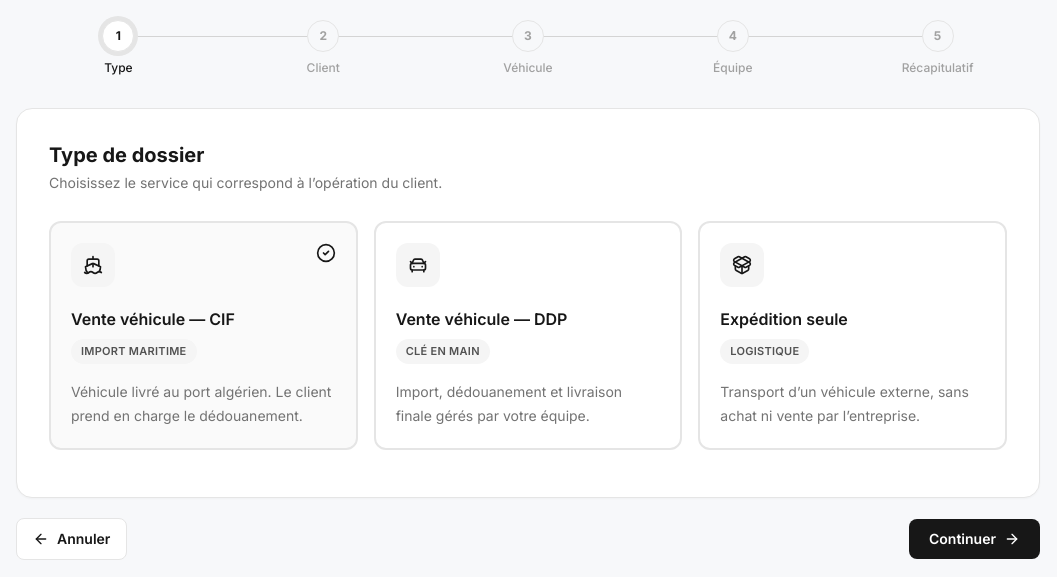
Test: Dossier unified catalogue selection › renders a real empty result explicitly
Click the button "Continuer": (974, 539) 909,519 -> 1040,559
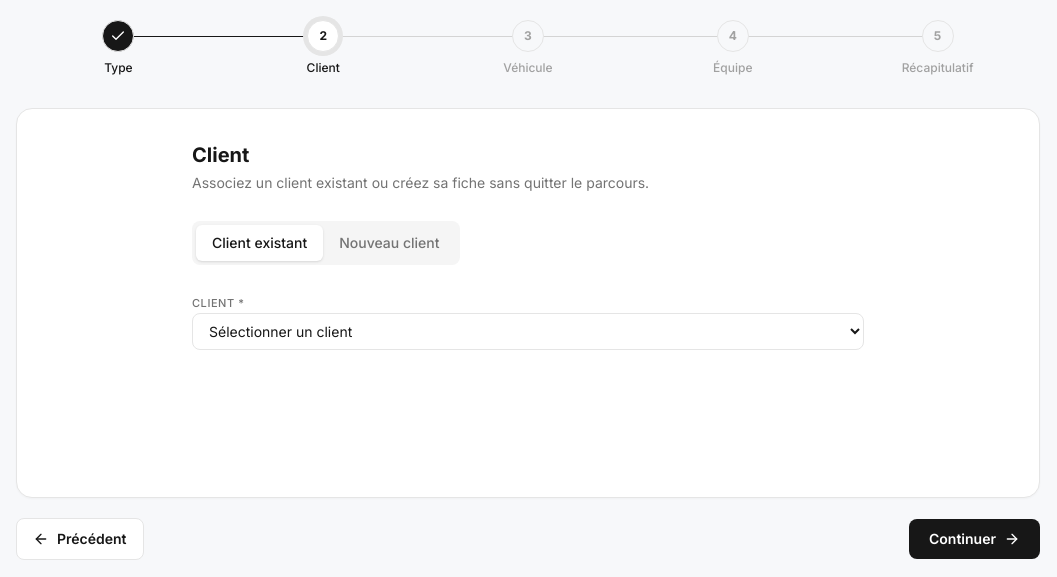
Select "Client Test — sans contact" in the dropdown named "Client existant": (528, 332) 192,313 -> 864,350
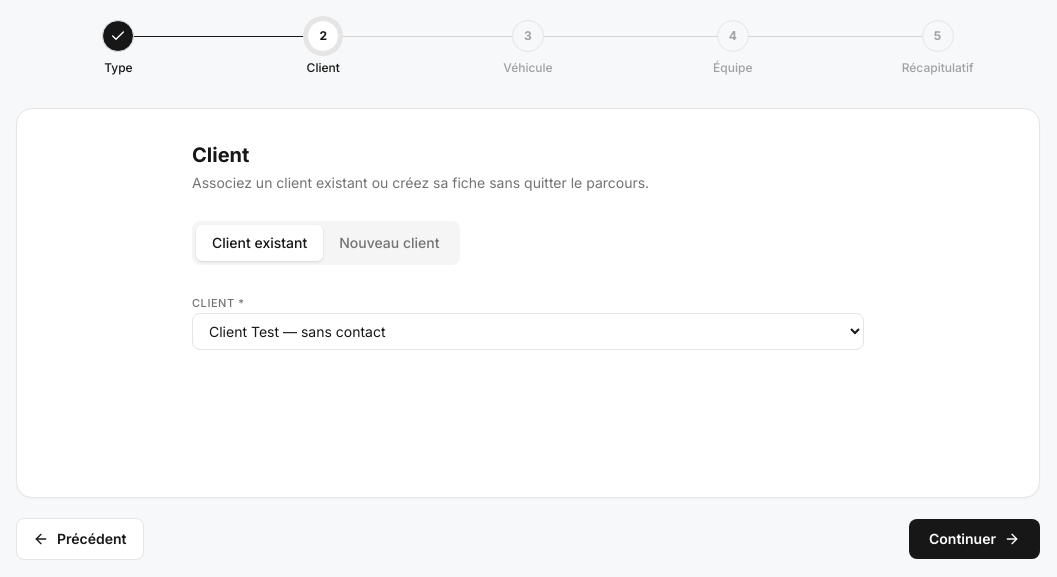
Click the button "Continuer": (974, 539) 909,519 -> 1040,559
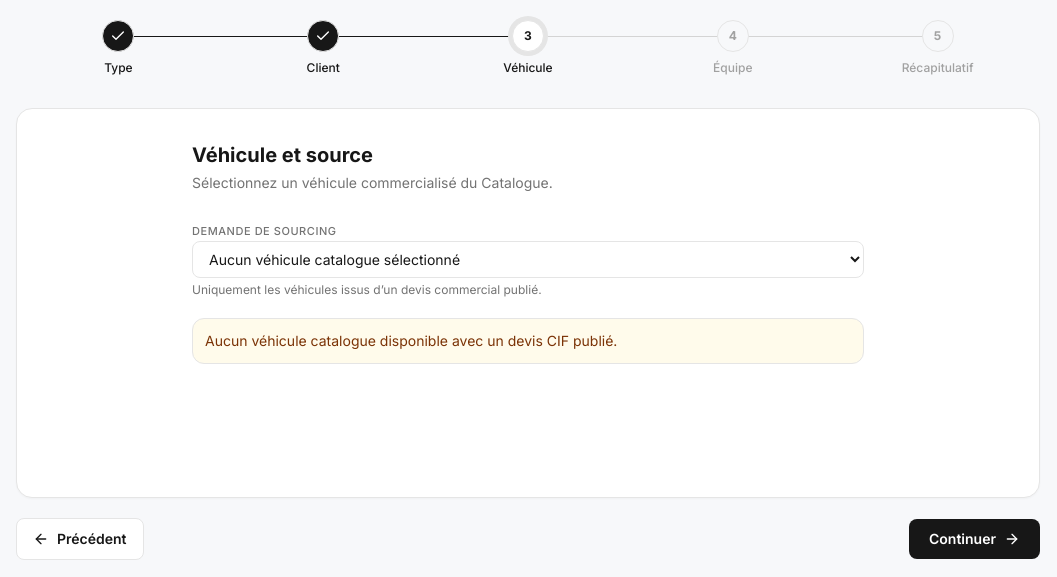
Now the text "Aucun véhicule catalogue disponible avec un devis" is shown, box 205,332 -> 543,349
